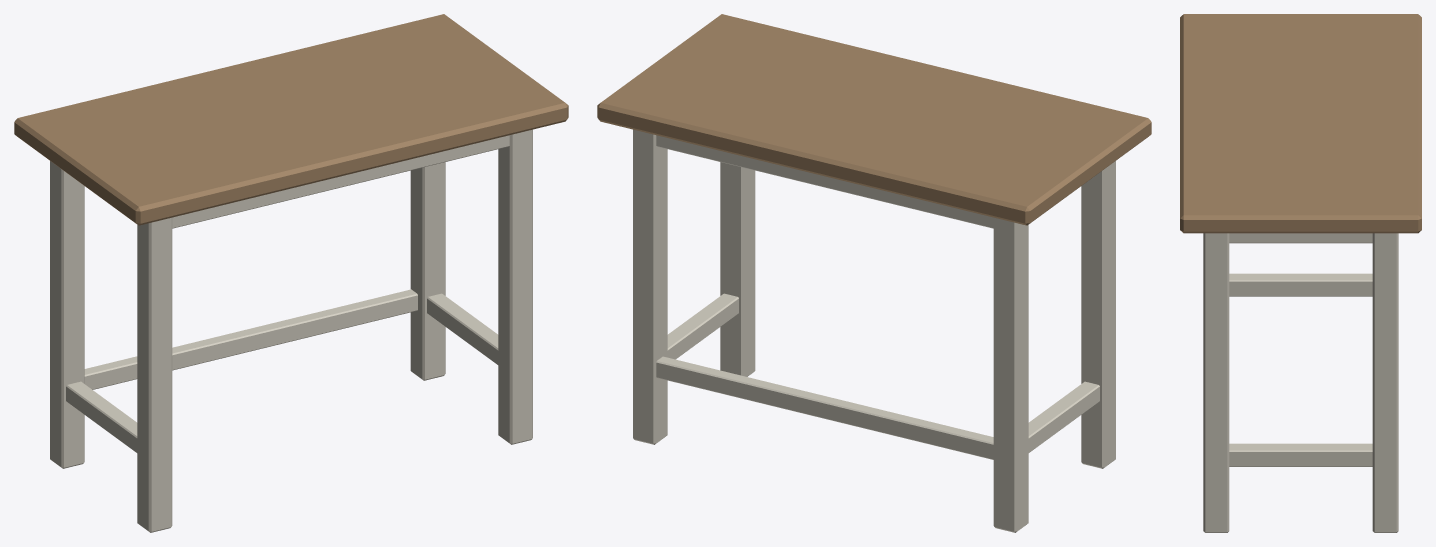
3 views of the same model, side by side, from view 1: azimuth 30°, elevation 25°; view 2: azimuth 150°, elevation 25°; view 3: azimuth 270°, elevation 25° (orthographic). The views are drawn at different scales.
Visible parts, largest first — view 1: Complete work surface, Worktable leg, Worktable leg.002, Worktable leg.001, Rear lower brace, Worktable leg.003, Upper long apron, Side lower stretcher.001, Side lower stretcher; view 2: Complete work surface, Worktable leg.001, Worktable leg.003, Worktable leg, Rear lower brace, Worktable leg.002, Upper long apron.001, Side lower stretcher, Side lower stretcher.001; view 3: Complete work surface, Worktable leg.002, Worktable leg.003, Side lower stretcher, Side lower stretcher.001, Side upper apron.001.
Part boxes in pixels (x1,y1,x2,y2): Complete work surface: [14, 14, 568, 225]; Worktable leg: [137, 217, 172, 532]; Worktable leg.002: [498, 129, 532, 444]; Worktable leg.001: [50, 161, 84, 468]; Rear lower brace: [84, 289, 417, 389]; Worktable leg.003: [410, 162, 445, 380]; Upper long apron: [172, 135, 509, 228]; Side lower stretcher.001: [427, 293, 498, 364]; Side lower stretcher: [66, 381, 137, 452]; Complete work surface: [597, 14, 1151, 225]; Worktable leg.001: [993, 217, 1028, 532]; Worktable leg.003: [633, 129, 667, 444]; Worktable leg: [1081, 161, 1115, 468]; Rear lower brace: [656, 356, 993, 459]; Worktable leg.002: [720, 162, 755, 376]; Upper long apron.001: [656, 135, 993, 228]; Side lower stretcher: [1028, 381, 1099, 452]; Side lower stretcher.001: [667, 293, 738, 359]; Complete work surface: [1180, 14, 1421, 233]; Worktable leg.002: [1203, 233, 1229, 532]; Worktable leg.003: [1372, 233, 1398, 532]; Side lower stretcher: [1229, 273, 1372, 296]; Side lower stretcher.001: [1229, 443, 1372, 466]; Side upper apron.001: [1229, 233, 1372, 243].
Size of the model in its own units: 1.2 by 0.9 by 0.6.
